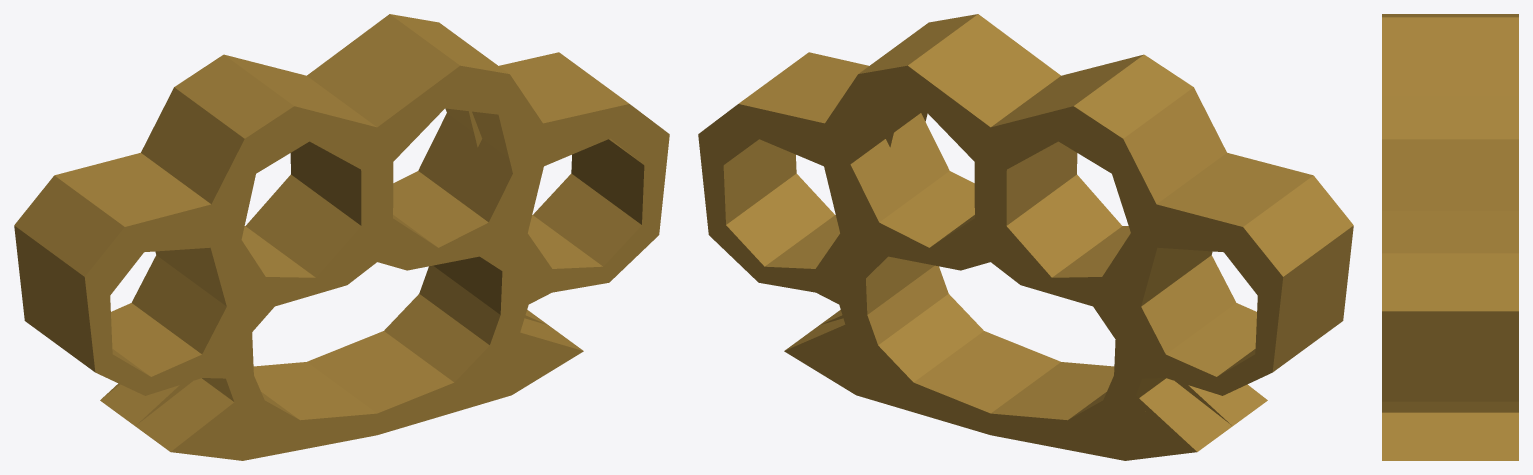
File: BrassKnuckles.glb
The picture shows the model from 3 angles, left to right: view 1: azimuth 30°, elevation 25°; view 2: azimuth 150°, elevation 25°; view 3: azimuth 270°, elevation 25°; orthographic projection. The views are drawn at different scales.
Visible parts, largest first — view 1: BrassKnuckles; view 2: BrassKnuckles; view 3: BrassKnuckles.
Part boxes in pixels (bbox=[...]): BrassKnuckles: bbox=[14, 14, 669, 460]; BrassKnuckles: bbox=[698, 14, 1353, 460]; BrassKnuckles: bbox=[1382, 14, 1518, 460].
Bounding box in the file's own units: 0.1148 × 0.0655 × 0.024.
Materials: 1 (1 with a texture image).
